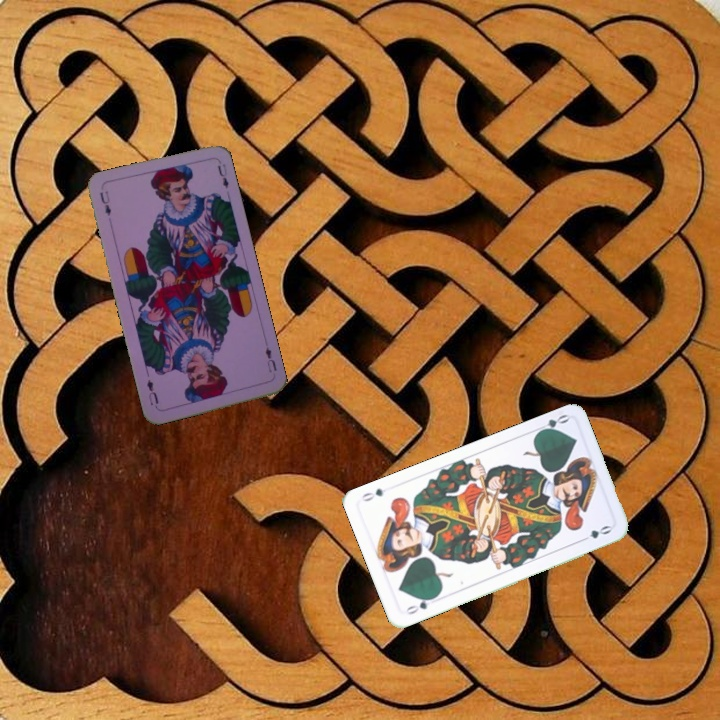EU: (261, 343, 279, 375), (96, 187, 114, 218)
GO: (531, 410, 571, 436), (402, 593, 438, 617)
